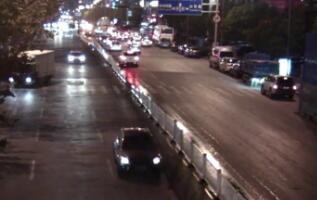bus: (151, 22, 174, 46)
car: (112, 124, 165, 182), (5, 45, 57, 90), (257, 72, 298, 101), (115, 47, 140, 68), (64, 47, 89, 66), (211, 42, 230, 66), (221, 55, 239, 73)
